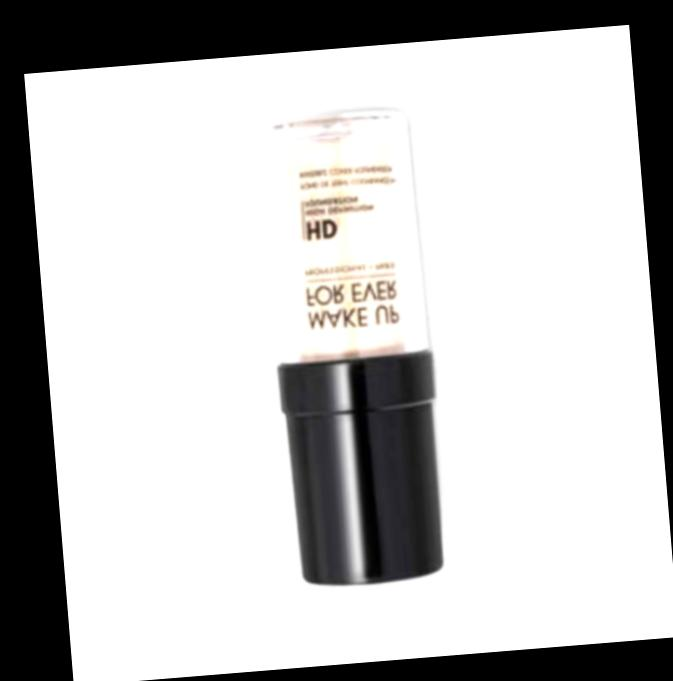cosmetic: (251, 106, 454, 590)
